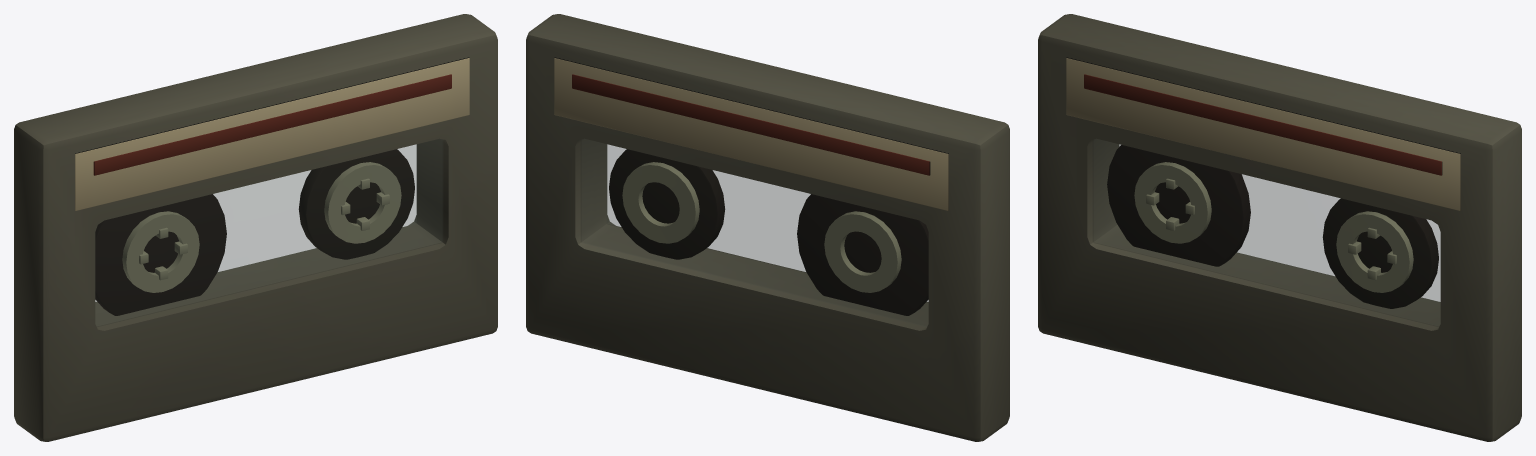
File: Tape_01.fbx
The picture shows the model from 3 angles, left to right: view 1: azimuth 30°, elevation 25°; view 2: azimuth 150°, elevation 25°; view 3: azimuth 330°, elevation 25°; orthographic projection.
Visible parts, largest first — view 1: Tape_01_Shell, Tape_01_Radio_Glass, Tape_01_Radio_Paper, TapeWinding, TapeWinding.001, Tape_01_Radio_RustRed, Tape_01_Reel_L_PIVOT_Radio_Spool, Tape_01_Reel_R_PIVOT_Radio_Spool; view 2: Tape_01_Shell, Tape_01_Radio_Glass, Tape_01_Radio_Paper, TapeWinding, TapeWinding.001, Tape_01_Radio_RustRed, Tape_01_Reel_L_PIVOT_Radio_Spool, Tape_01_Reel_R_PIVOT_Radio_Spool; view 3: Tape_01_Shell, Tape_01_Radio_Glass, Tape_01_Radio_Paper, TapeWinding, TapeWinding.001, Tape_01_Radio_RustRed, Tape_01_Reel_R_PIVOT_Radio_Spool, Tape_01_Reel_L_PIVOT_Radio_Spool.
Part boxes in pixels (x1,y1,x2,y2): Tape_01_Shell: [14, 14, 497, 441]; Tape_01_Radio_Glass: [95, 139, 442, 326]; Tape_01_Radio_Paper: [75, 57, 469, 210]; TapeWinding: [95, 194, 226, 315]; TapeWinding.001: [298, 149, 414, 259]; Tape_01_Radio_RustRed: [93, 74, 451, 175]; Tape_01_Reel_L_PIVOT_Radio_Spool: [122, 211, 199, 292]; Tape_01_Reel_R_PIVOT_Radio_Spool: [324, 162, 401, 243]; Tape_01_Shell: [526, 14, 1009, 441]; Tape_01_Radio_Glass: [581, 139, 928, 326]; Tape_01_Radio_Paper: [554, 57, 948, 210]; TapeWinding: [797, 194, 928, 315]; TapeWinding.001: [609, 149, 725, 259]; Tape_01_Radio_RustRed: [572, 74, 930, 175]; Tape_01_Reel_L_PIVOT_Radio_Spool: [824, 211, 901, 292]; Tape_01_Reel_R_PIVOT_Radio_Spool: [622, 162, 699, 243]; Tape_01_Shell: [1038, 14, 1521, 441]; Tape_01_Radio_Glass: [1093, 139, 1440, 326]; Tape_01_Radio_Paper: [1066, 57, 1460, 210]; TapeWinding: [1107, 145, 1250, 266]; TapeWinding.001: [1322, 198, 1438, 308]; Tape_01_Radio_RustRed: [1084, 74, 1442, 175]; Tape_01_Reel_R_PIVOT_Radio_Spool: [1336, 211, 1413, 292]; Tape_01_Reel_L_PIVOT_Radio_Spool: [1134, 162, 1211, 243].
Size of the model in its own units: 10 by 6.3 by 1.29.
6 materials, 6 textured.
